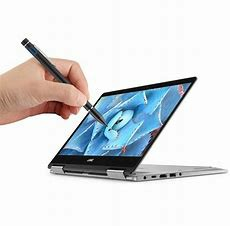pen: (20, 38, 107, 125)
